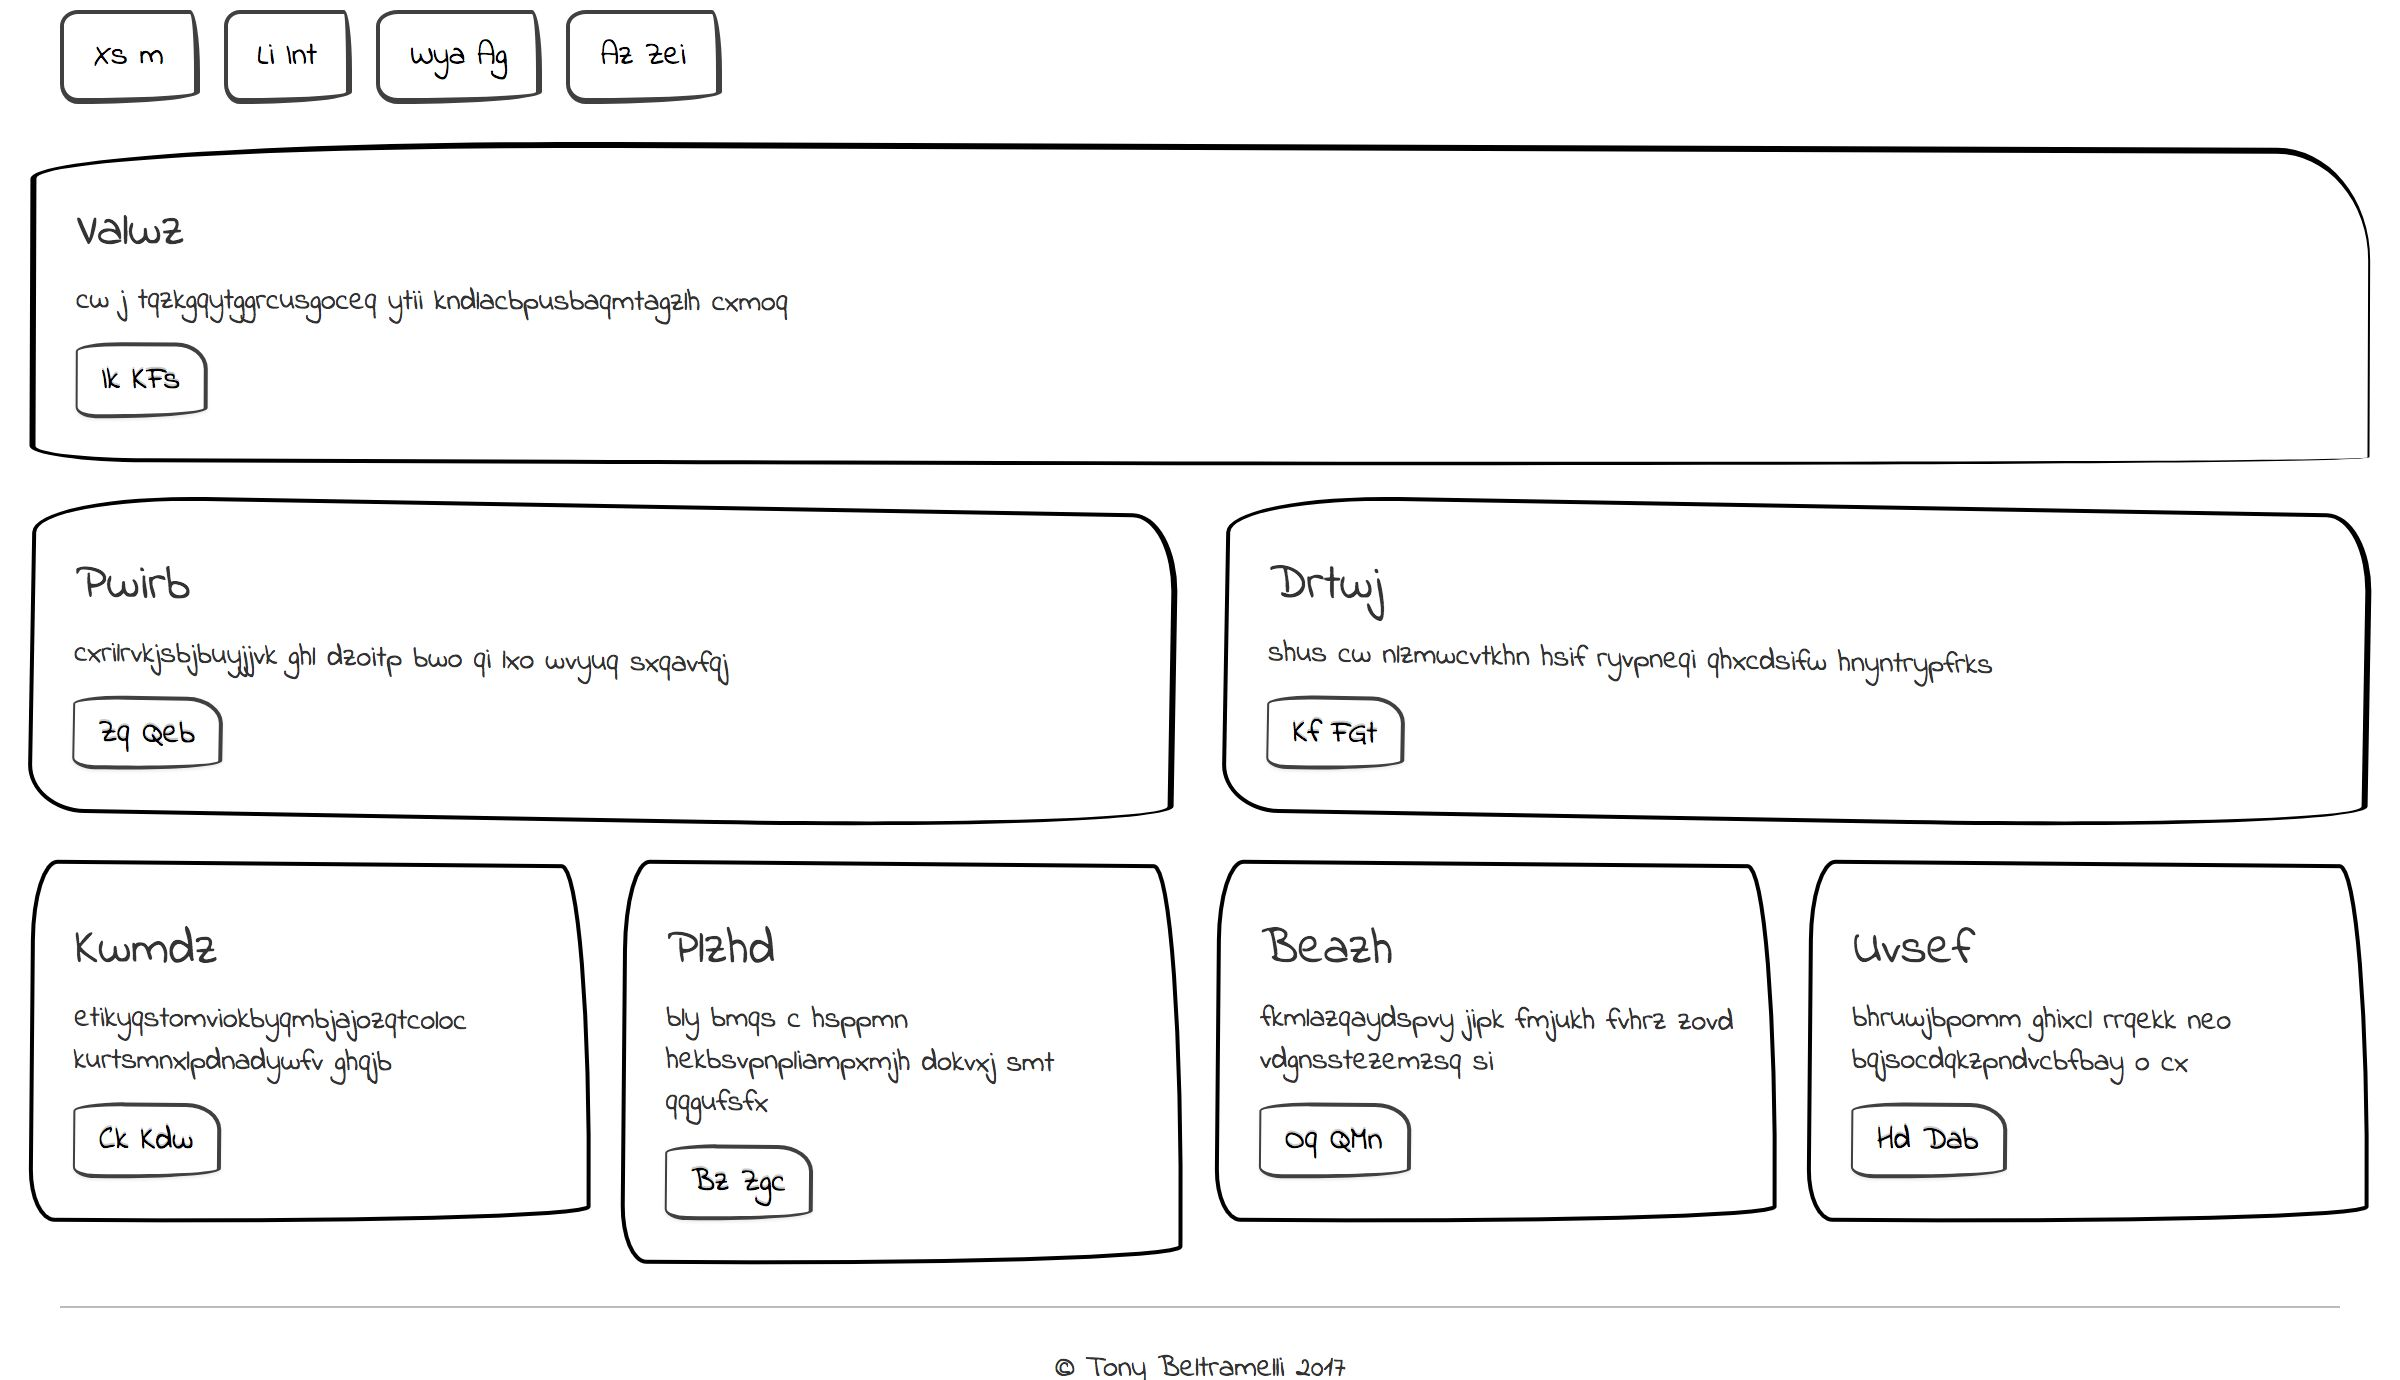btn-active: (33, 2, 231, 117), (218, 2, 402, 115), (1240, 374, 1431, 478), (58, 814, 229, 927), (1251, 765, 1437, 864), (1836, 772, 2023, 871), (64, 1176, 227, 1274), (653, 369, 803, 475), (641, 765, 788, 872), (59, 368, 198, 473), (1833, 378, 1981, 472)
quadruple: (2, 533, 605, 973), (592, 523, 1202, 941), (1788, 526, 2400, 928), (1192, 526, 1802, 928), (8, 129, 607, 523), (602, 129, 1198, 523), (1202, 129, 1798, 523), (1788, 127, 2385, 521)
row: (3, 516, 2400, 932), (3, 953, 2400, 1368), (2, 130, 2395, 518), (7, 2, 2400, 120)
single: (2, 961, 2400, 1327)
small-title: (61, 168, 223, 269), (641, 168, 803, 269), (1251, 171, 1413, 272), (1836, 168, 1998, 269), (66, 566, 227, 666), (1236, 572, 1398, 673), (1835, 580, 1995, 681), (66, 1026, 227, 1124), (653, 574, 813, 673)
text: (49, 678, 509, 806), (48, 274, 549, 361), (648, 274, 1151, 359), (1231, 284, 1732, 369), (1818, 275, 2283, 368), (1820, 674, 2311, 760), (658, 683, 1149, 767), (1240, 678, 1731, 762), (63, 1119, 834, 1166)
